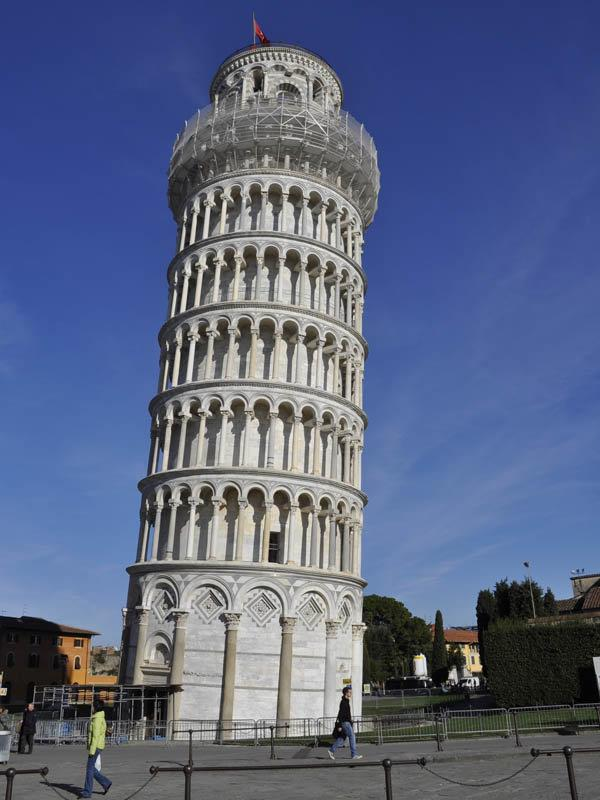Torre_di_Pisa: (107, 43, 382, 722)
